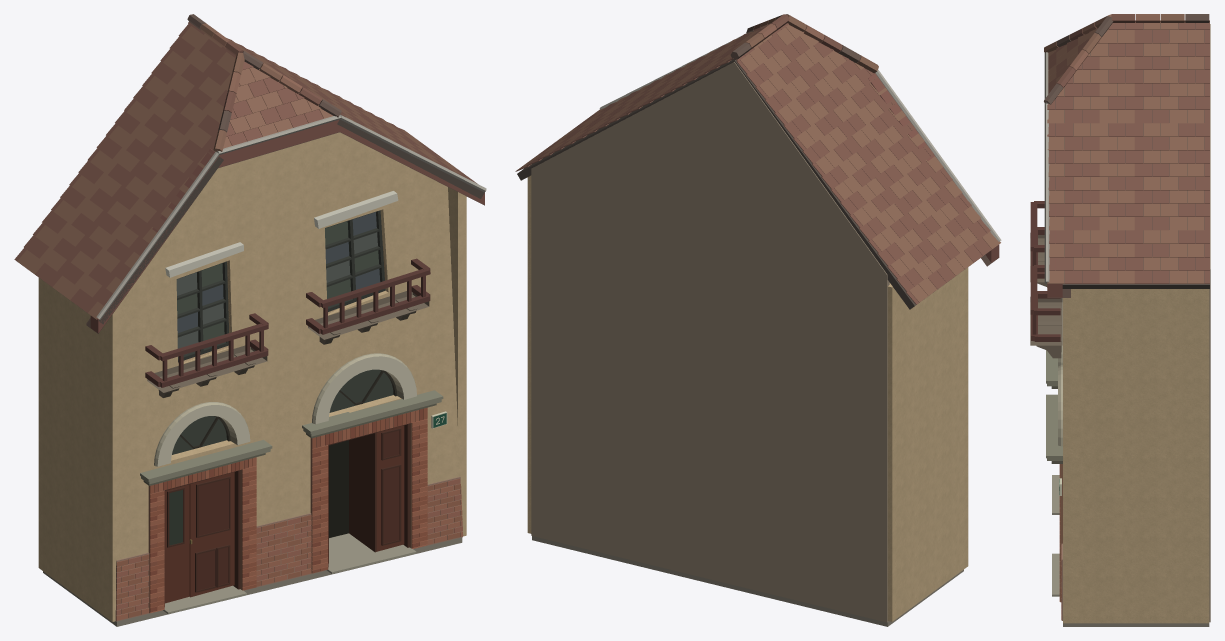
Rendered from putuo-aomen-660-no27-gabled-entrances-lod.glb.
3 views of the same model, side by side, from view 1: azimuth 30°, elevation 25°; view 2: azimuth 150°, elevation 25°; view 3: azimuth 270°, elevation 25° (orthographic). The views are drawn at different scales.
Visible parts, largest first — view 1: 澳门路660弄27号山墙下的双门廊; view 2: 澳门路660弄27号山墙下的双门廊; view 3: 澳门路660弄27号山墙下的双门廊.
Boxes of the visible parts, <box> form: 澳门路660弄27号山墙下的双门廊: <box>14,14,486,626</box>; 澳门路660弄27号山墙下的双门廊: <box>515,14,1001,626</box>; 澳门路660弄27号山墙下的双门廊: <box>1030,14,1210,626</box>.
Size of the model in its own units: 5.81 by 7.43 by 2.35.
Materials: 44 (1 with a texture image).
